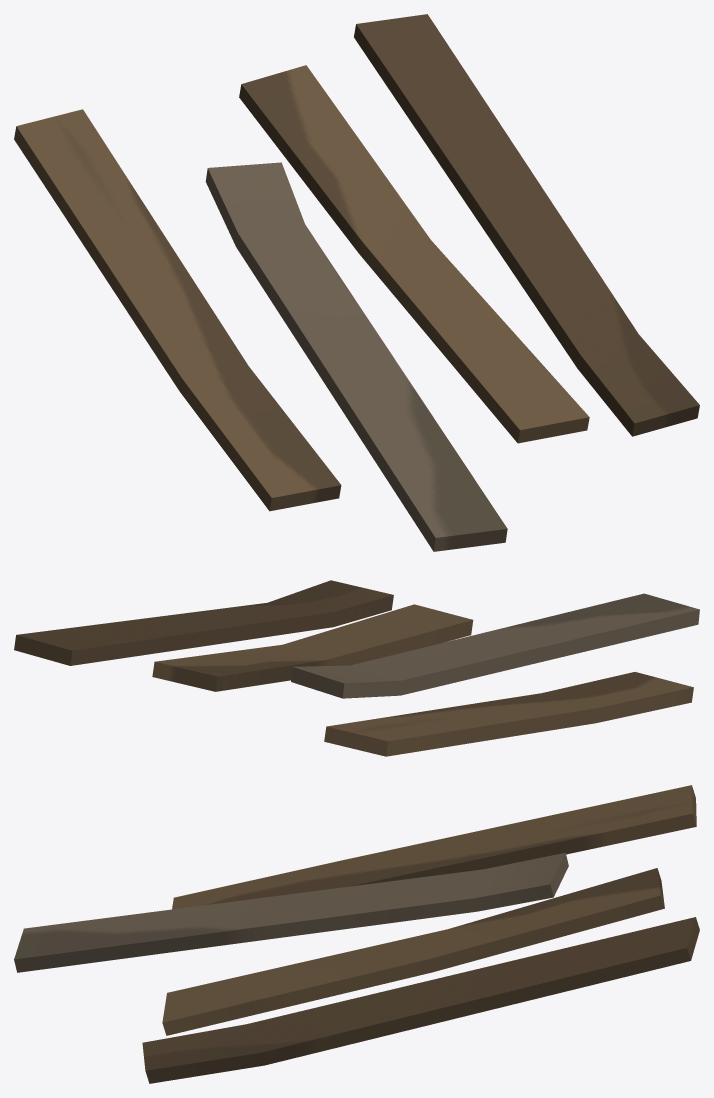
File: SM_Bld_Roof_Planks_02.fbx
3 renders of one model, top to bottom at view 1: azimuth 30°, elevation 25°; view 2: azimuth 150°, elevation 25°; view 3: azimuth 270°, elevation 25°, orthographic. The views are drawn at different scales.
Visible parts, largest first — view 1: SM_Bld_Roof_Planks_02; view 2: SM_Bld_Roof_Planks_02; view 3: SM_Bld_Roof_Planks_02.
Boxes of the visible parts, x1,y1,x2,y2 form: SM_Bld_Roof_Planks_02: (14, 14, 699, 551); SM_Bld_Roof_Planks_02: (14, 580, 699, 756); SM_Bld_Roof_Planks_02: (14, 785, 699, 1083).
Bounding box in the file's own units: 215 × 82.91 × 325.
